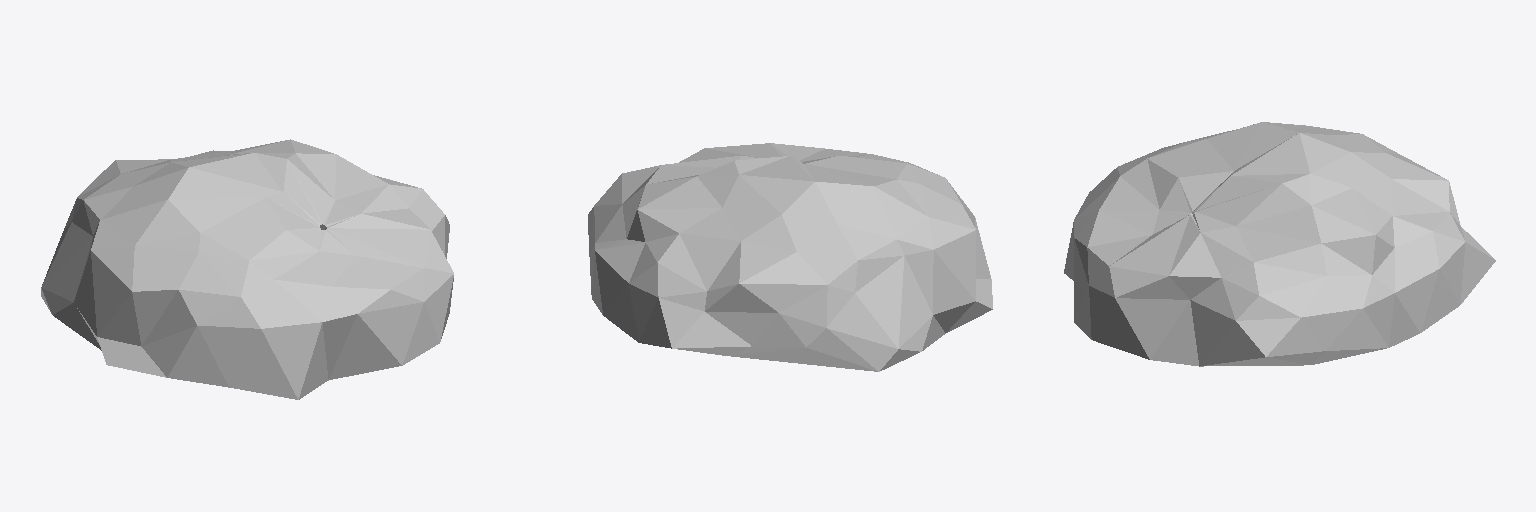
The model's file is mete-scaled.obj.
3 views of the same model, side by side, from view 1: azimuth 30°, elevation 25°; view 2: azimuth 150°, elevation 25°; view 3: azimuth 270°, elevation 25° (orthographic).
Parts seen in each view (by area): view 1: GeoSphere002_GeoSphere002; view 2: GeoSphere002_GeoSphere002; view 3: GeoSphere002_GeoSphere002.
Boxes of the visible parts, x1,y1,x2,y2 form: GeoSphere002_GeoSphere002: [41, 139, 453, 399]; GeoSphere002_GeoSphere002: [588, 143, 992, 371]; GeoSphere002_GeoSphere002: [1064, 122, 1495, 366].
Size of the model in its own units: 589 by 287 by 589.